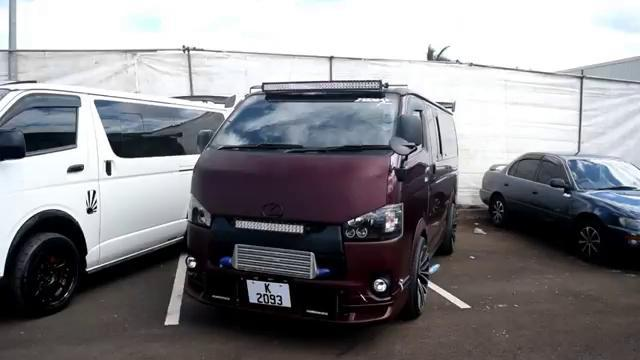van: (181, 74, 461, 328)
